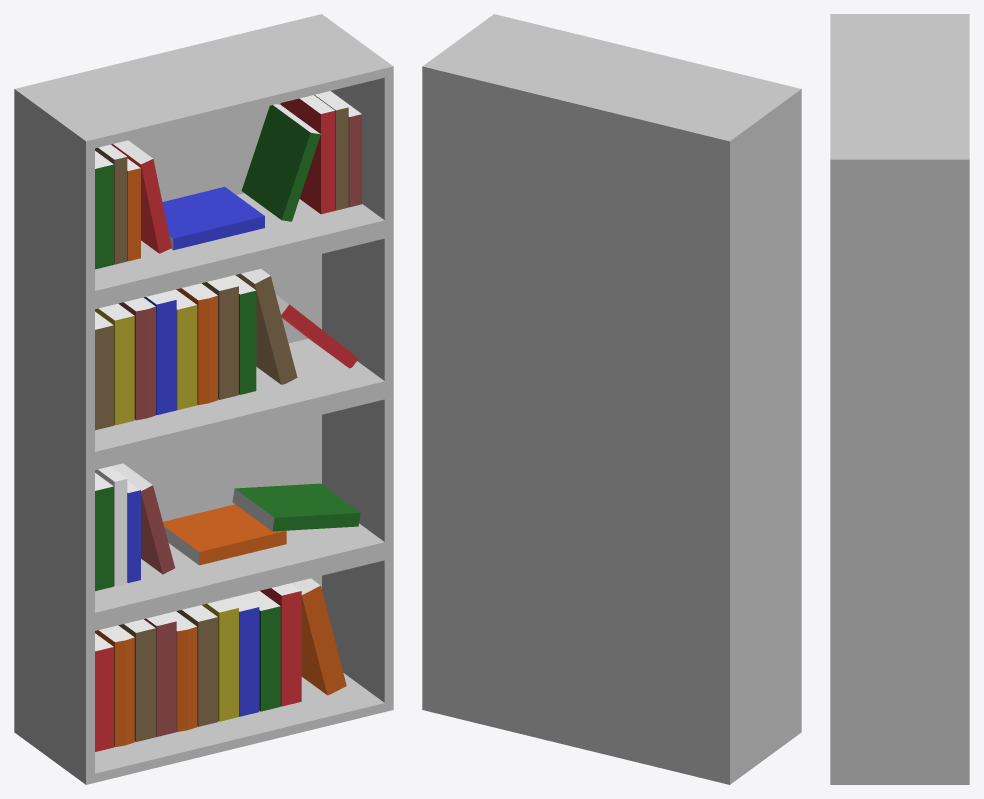
The model's file is BooksShelf_03.obj.
3 renders of one model, left to right at view 1: azimuth 30°, elevation 25°; view 2: azimuth 150°, elevation 25°; view 3: azimuth 270°, elevation 25°, orthographic. The views are drawn at different scales.
Visible parts, largest first — view 1: BookShelf03; view 2: BookShelf03; view 3: BookShelf03.
Boxes of the visible parts, x1,y1,x2,y2 form: BookShelf03: [14, 14, 393, 784]; BookShelf03: [422, 14, 801, 784]; BookShelf03: [830, 14, 969, 784].
Size of the model in its own units: 4.95 by 9.91 by 2.
